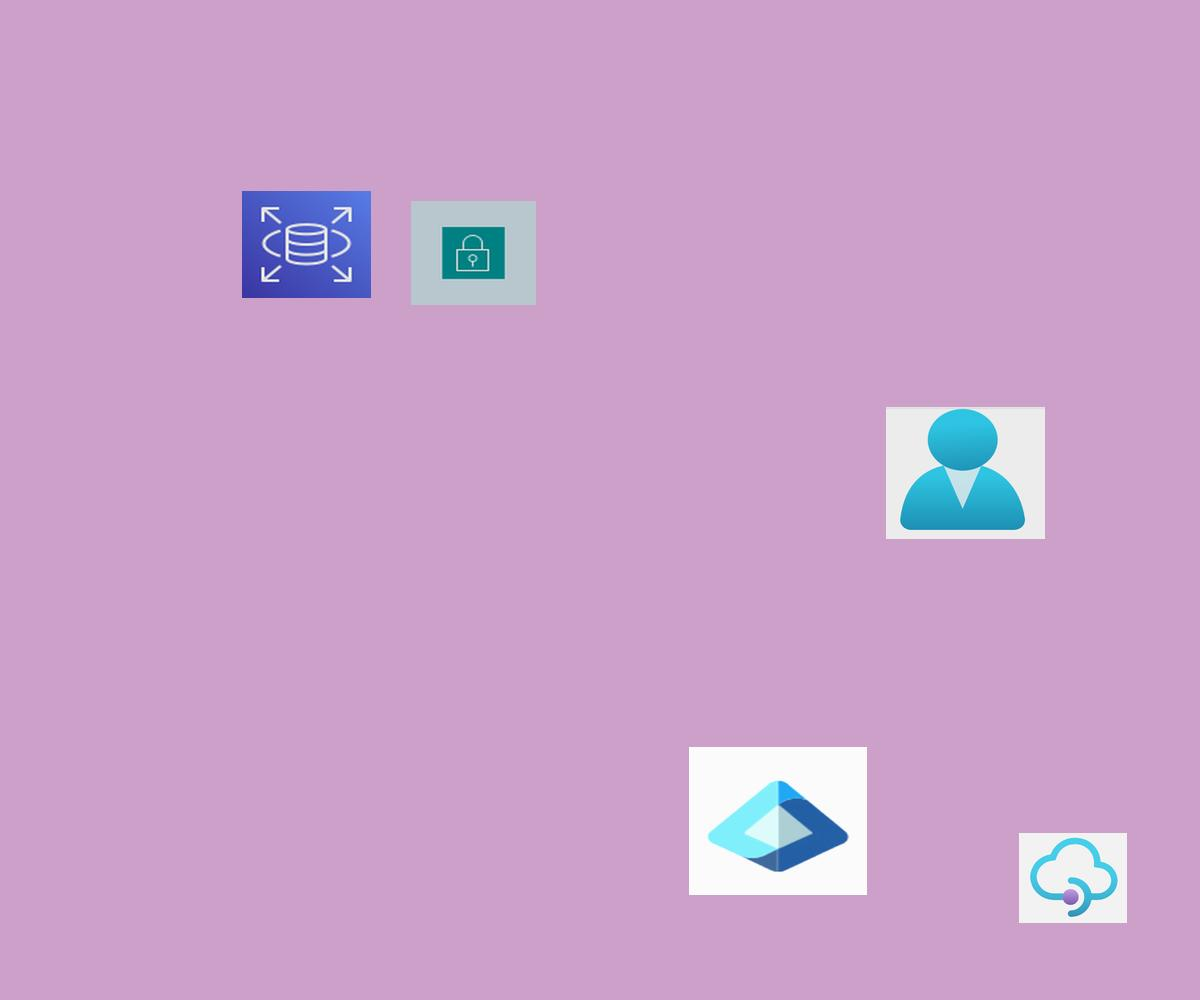AWS-Private-subnet: (411, 201, 536, 305)
AWS-RDS: (242, 191, 371, 298)
Azure_api_gateway: (1019, 833, 1127, 923)
Azure_microsoft_entra: (689, 747, 867, 895)
Azure_users: (886, 407, 1045, 539)
